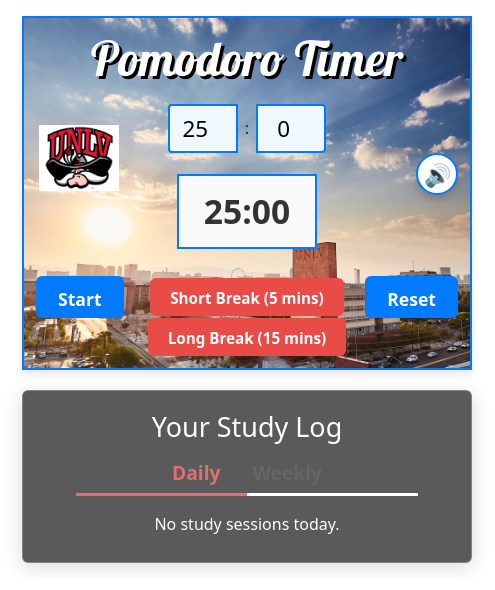
Scenario: PomodoroTimer › short break resets to 5 minutes
Click the button "Short Break (5 mins)": (247, 297) [150,278,344,316]
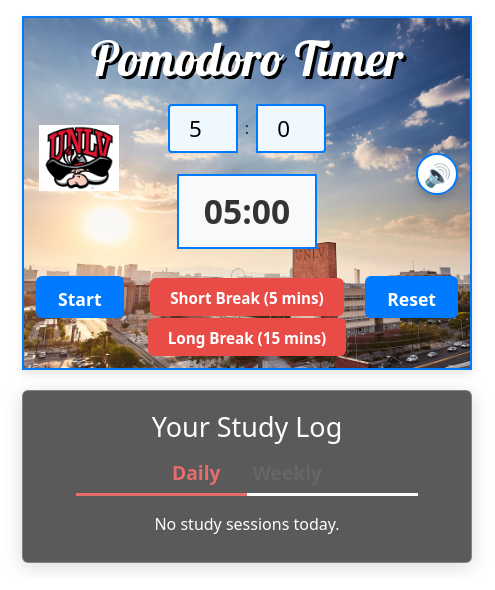
Expected: the text "05:00" is shown, [177,174,317,249]
